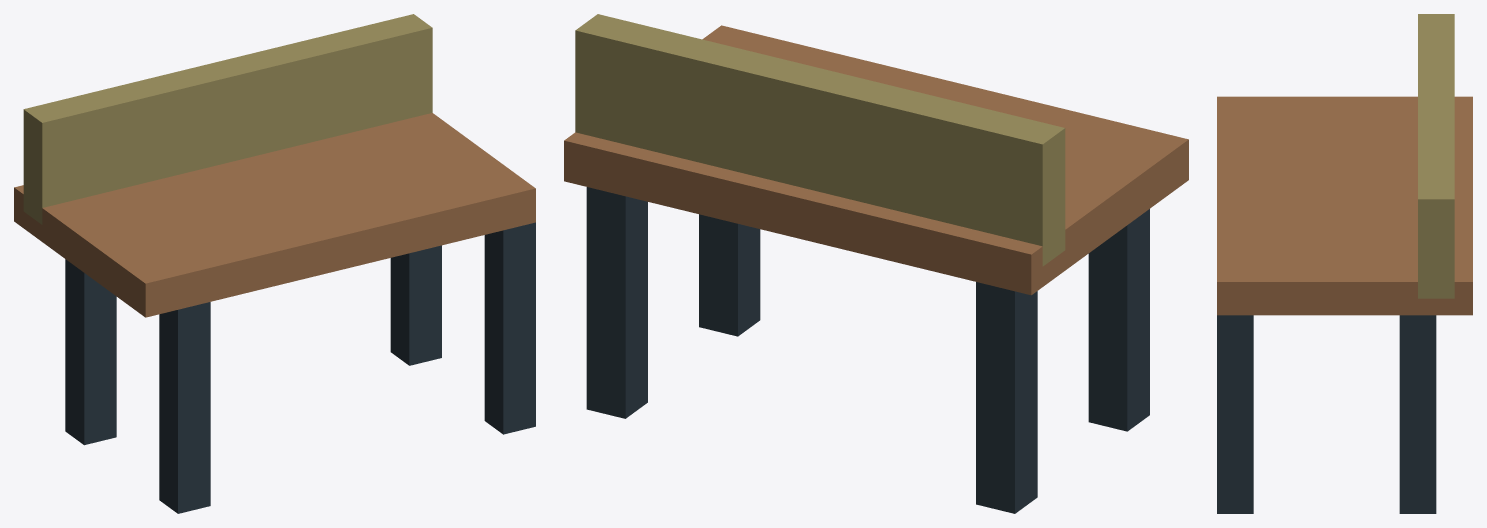
File: sports-18.glb
The picture shows the model from 3 angles, left to right: view 1: azimuth 30°, elevation 25°; view 2: azimuth 150°, elevation 25°; view 3: azimuth 270°, elevation 25°; orthographic projection. The views are drawn at different scales.
Visible parts, largest first — view 1: Team bench; view 2: Team bench; view 3: Team bench.
Part boxes in pixels (x1,y1,x2,y2): Team bench: (14,14,535,513); Team bench: (564,14,1188,513); Team bench: (1217,14,1472,513).
Bounding box in the file's own units: 1.92 × 1.52 × 1.12.
